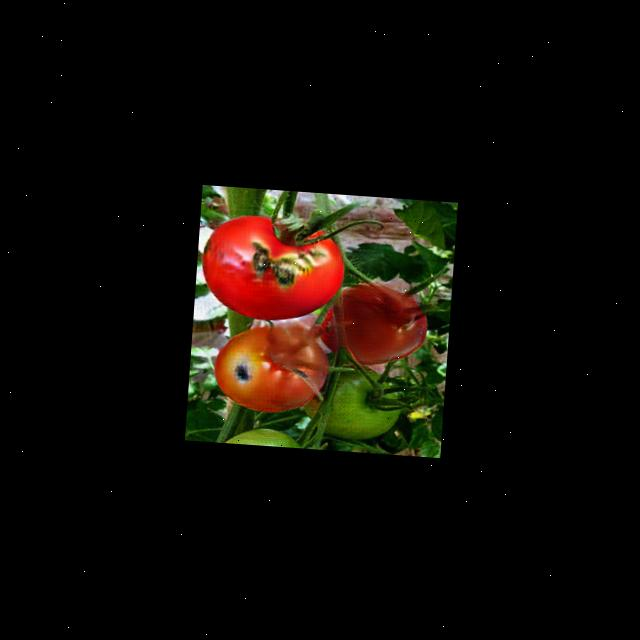tomato: (196, 212, 350, 326), (210, 322, 329, 412)
